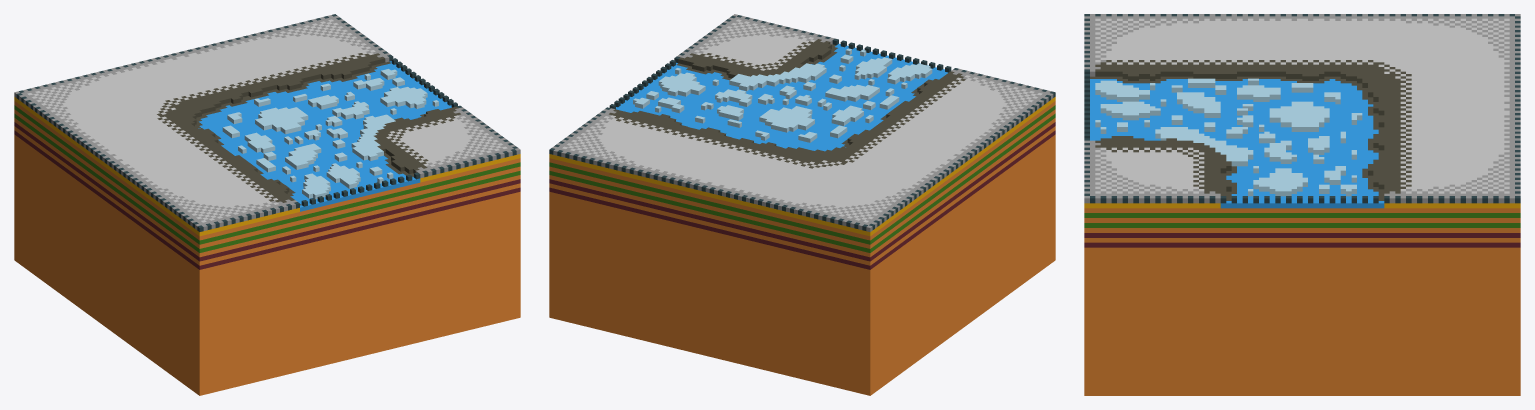
The model's file is ice_river_2_tile.obj.
3 views of the same model, side by side, from view 1: azimuth 30°, elevation 25°; view 2: azimuth 150°, elevation 25°; view 3: azimuth 270°, elevation 25° (orthographic). The views are drawn at different scales.
Size of the model in its own units: 8 by 4 by 8.
1 material, 1 textured.
